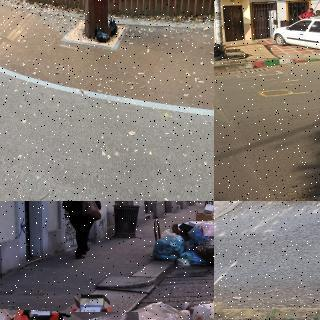Garbage: (123, 299, 201, 320), (153, 231, 186, 262), (189, 220, 214, 240), (195, 239, 214, 265), (214, 44, 226, 63), (95, 27, 110, 42), (108, 16, 118, 35)
